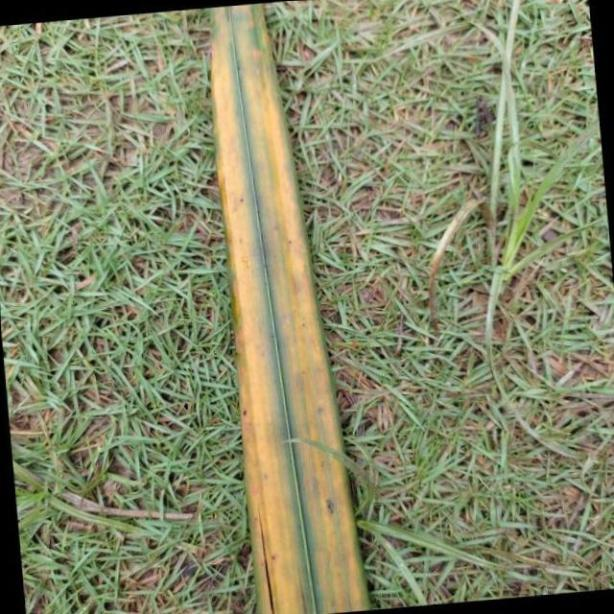Megnesium: (200, 3, 369, 614)
